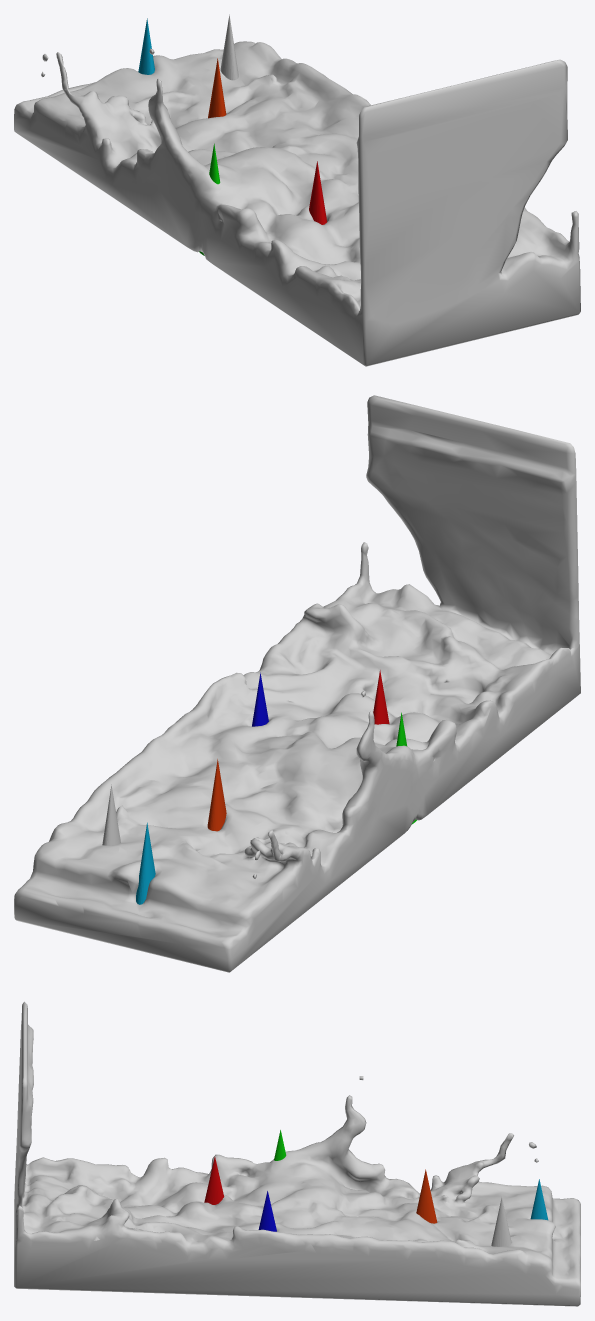
3 views of the same model, one above another, from view 1: azimuth 30°, elevation 25°; view 2: azimuth 150°, elevation 25°; view 3: azimuth 270°, elevation 25° (orthographic). The views are drawn at different scales.
Parts seen in each view (by area): view 1: Liquid_Domain, 円錐, 円錐.001, 円錐.004, 円錐.005; view 2: Liquid_Domain, 円錐.005, 円錐.004; view 3: Liquid_Domain, 円錐.004, 円錐, 円錐.001, 円錐.002, 円錐.005.
Boxes of the visible parts, <box> form: Liquid_Domain: <box>14,41,580,366</box>; 円錐: <box>220,14,238,80</box>; 円錐.001: <box>309,161,326,224</box>; 円錐.004: <box>208,58,226,118</box>; 円錐.005: <box>138,18,154,74</box>; Liquid_Domain: <box>14,395,580,972</box>; 円錐.005: <box>136,822,155,904</box>; 円錐.004: <box>207,759,226,831</box>; Liquid_Domain: <box>14,1001,580,1306</box>; 円錐.004: <box>416,1169,437,1223</box>; 円錐: <box>491,1197,511,1246</box>; 円錐.001: <box>204,1156,224,1204</box>; 円錐.002: <box>258,1191,276,1231</box>; 円錐.005: <box>530,1179,548,1220</box>.
Bounding box in the file's own units: 129 × 158 × 361.
